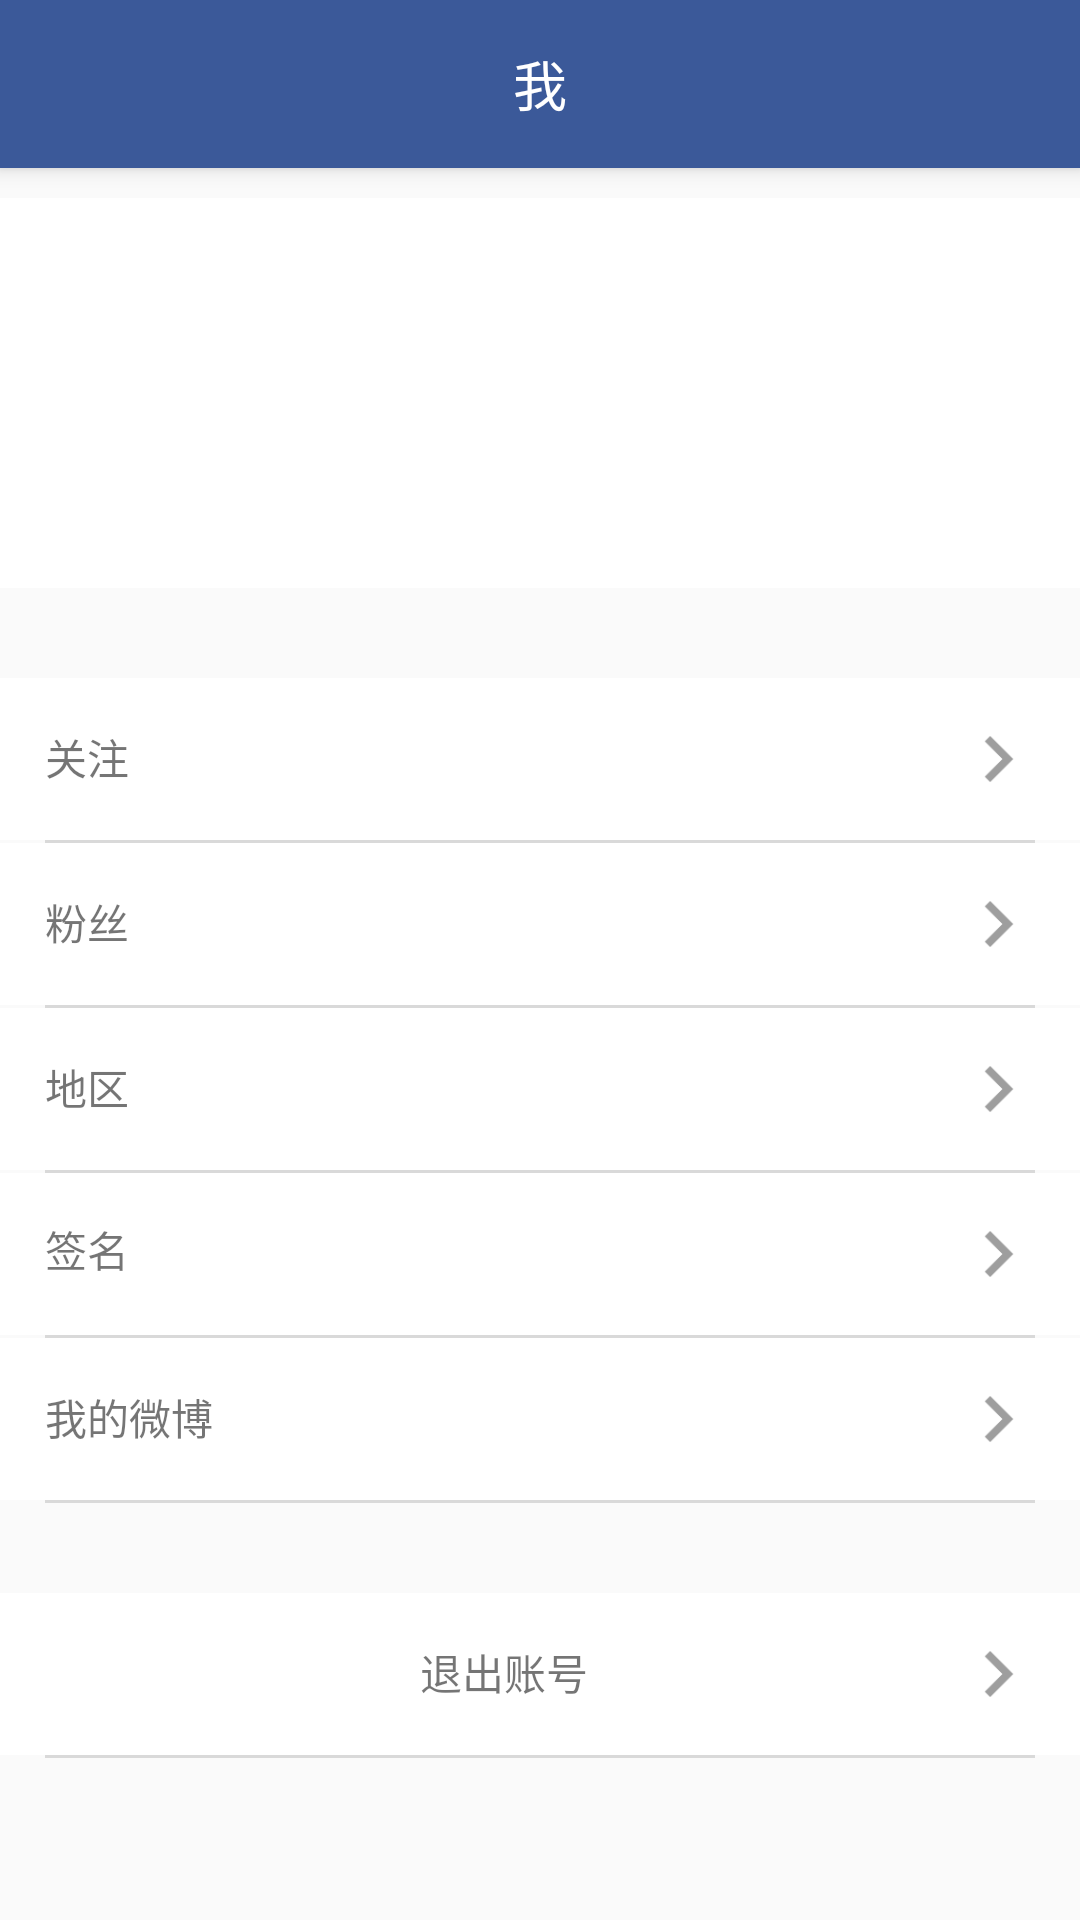

Locate icon controls on the screen. Image size 1080 × 1920, boxes as (x1, y1, x2, y2).
keyboard arrow right: (985, 736, 1013, 782), (985, 901, 1013, 947), (985, 1066, 1013, 1112), (985, 1231, 1013, 1277), (985, 1396, 1013, 1442), (985, 1651, 1013, 1697)
